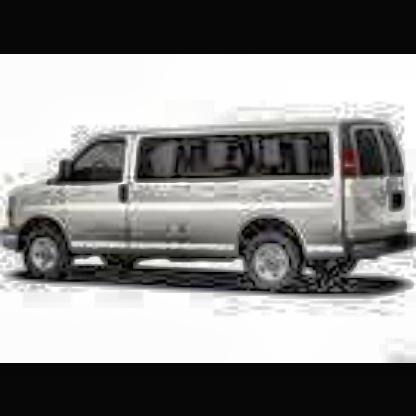GMC Savana Van 2012: (4, 113, 416, 297)
